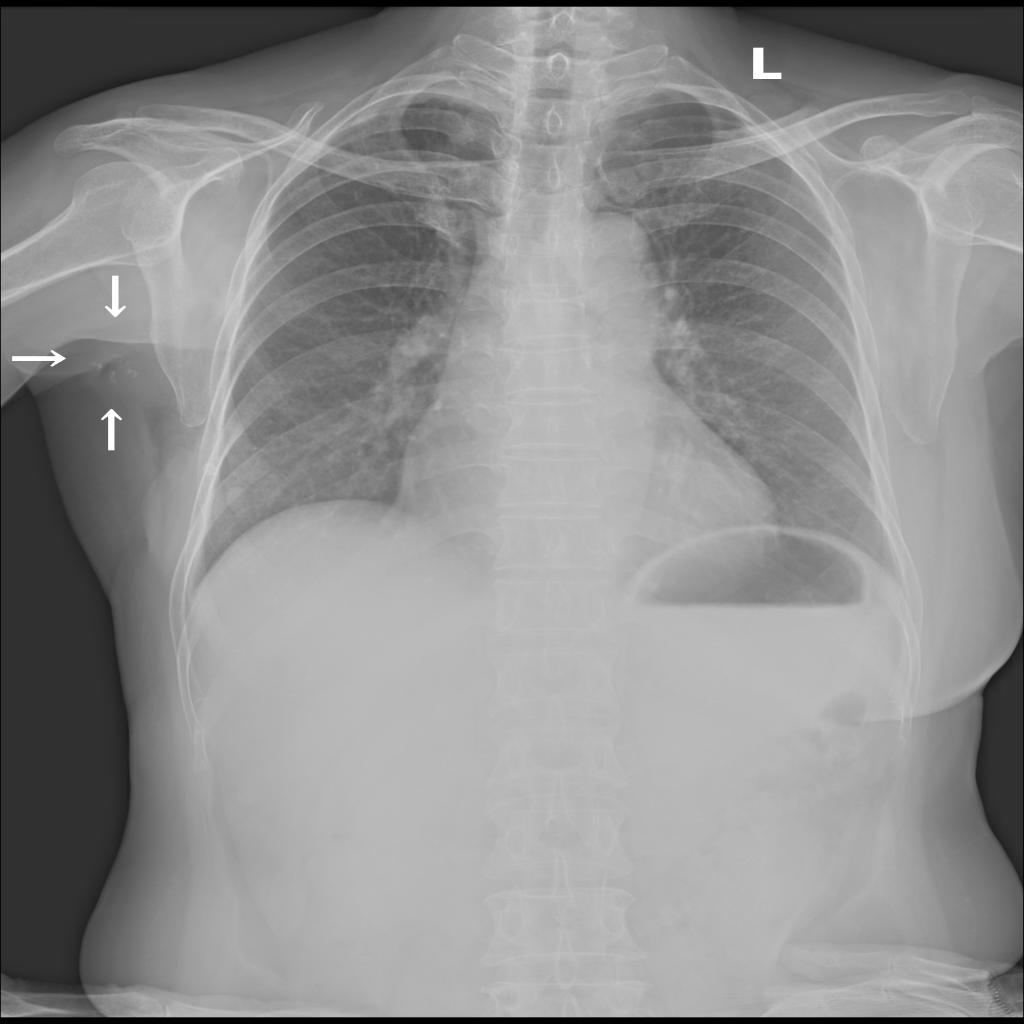Nodule: (227, 485, 254, 517)
